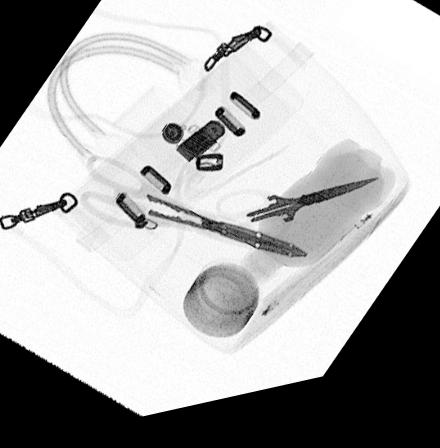Scissors: (77, 155, 312, 276), (213, 188, 381, 264)
